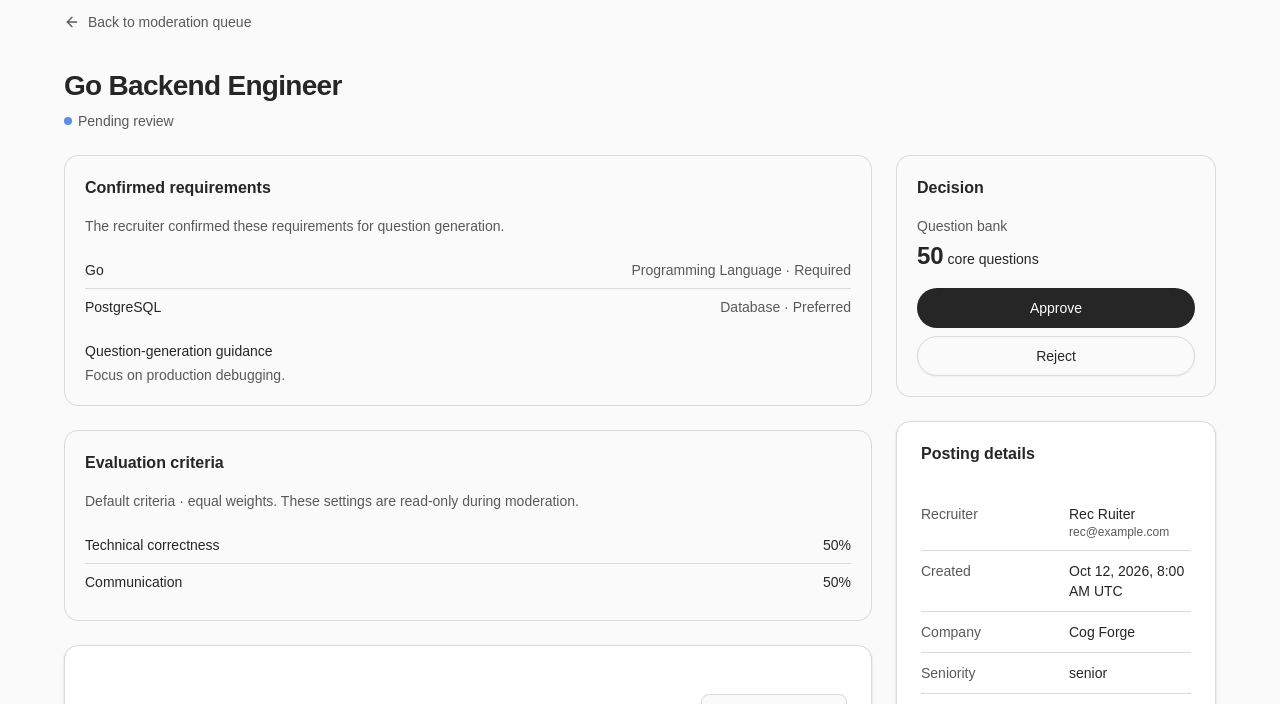
Test: PostingReview › approves after confirmation
Click the button "Approve" at (1056, 308), box [917,288,1195,328]
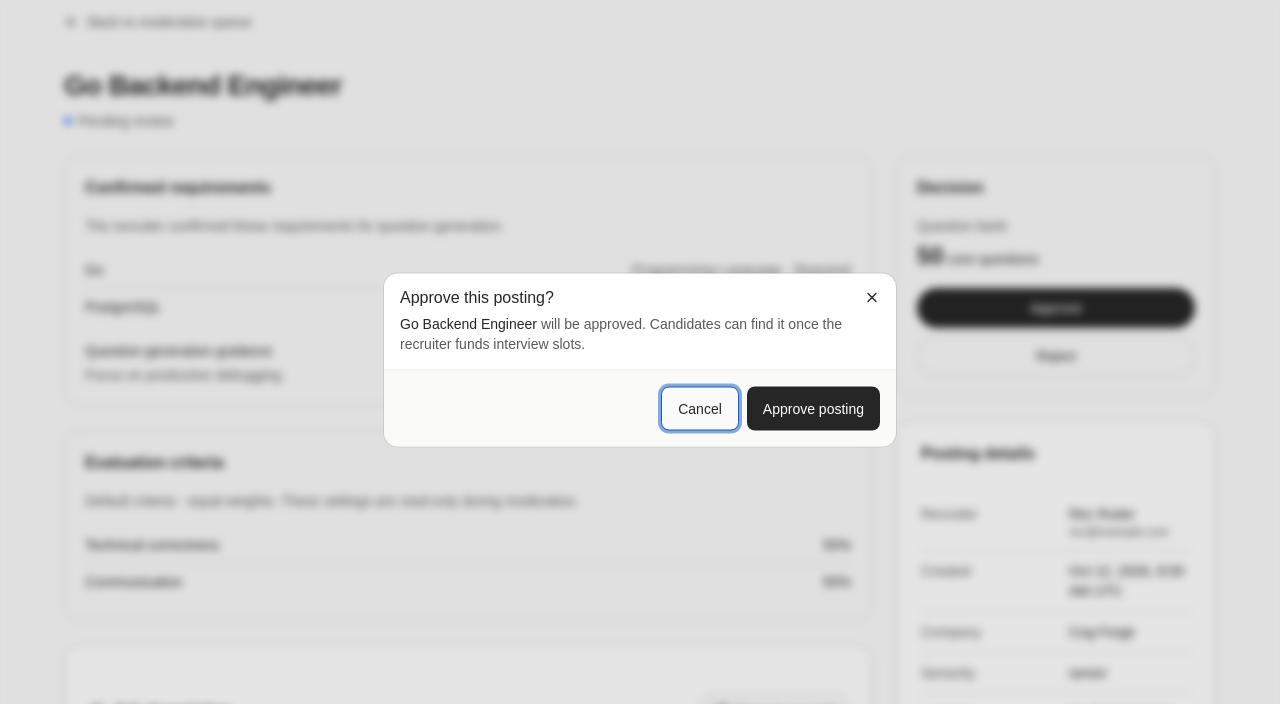
Click the button "Approve posting" at (813, 408), box [747,386,880,430]
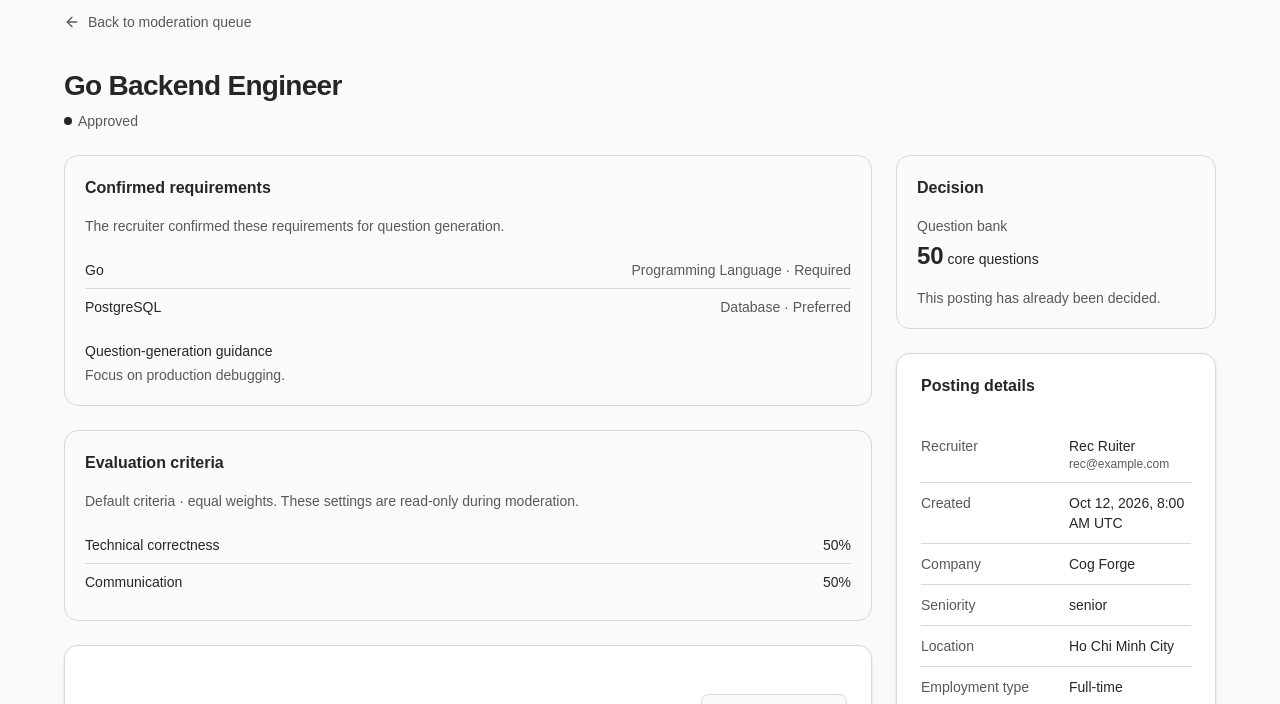
Now the text "Approved" is shown, box [64,111,138,131]
Now the dialog is gone
